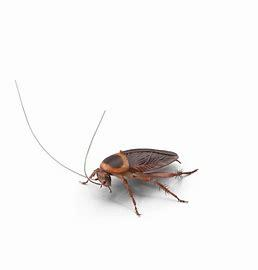cockroach: (62, 131, 211, 221)
